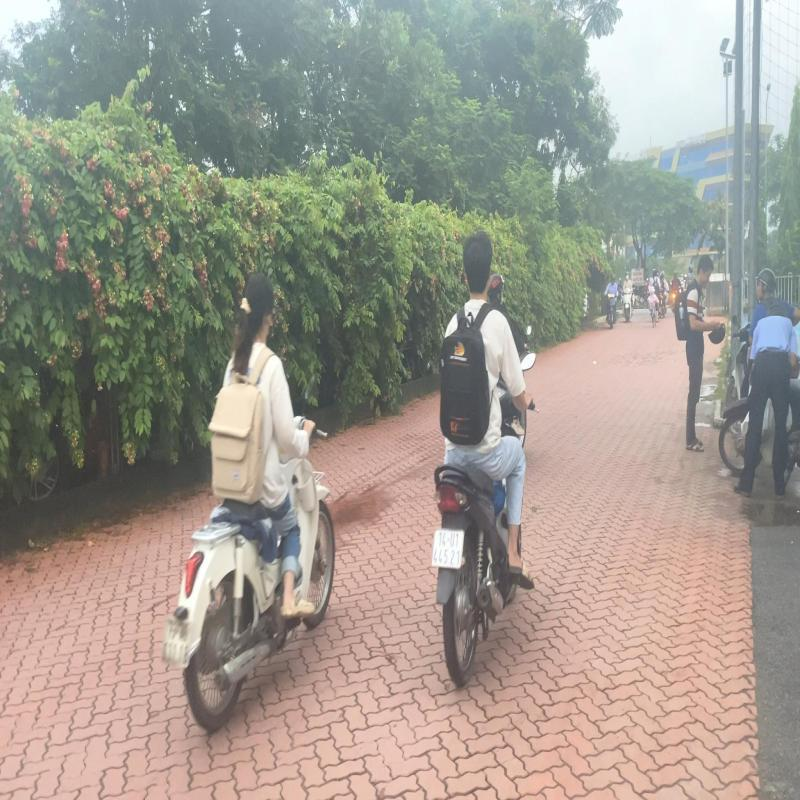licenseplate: (431, 529, 464, 570), (162, 620, 190, 668)
motorcyclist: (158, 268, 338, 736), (429, 224, 541, 688)
nohelmet: (243, 269, 274, 339), (462, 232, 494, 294)
